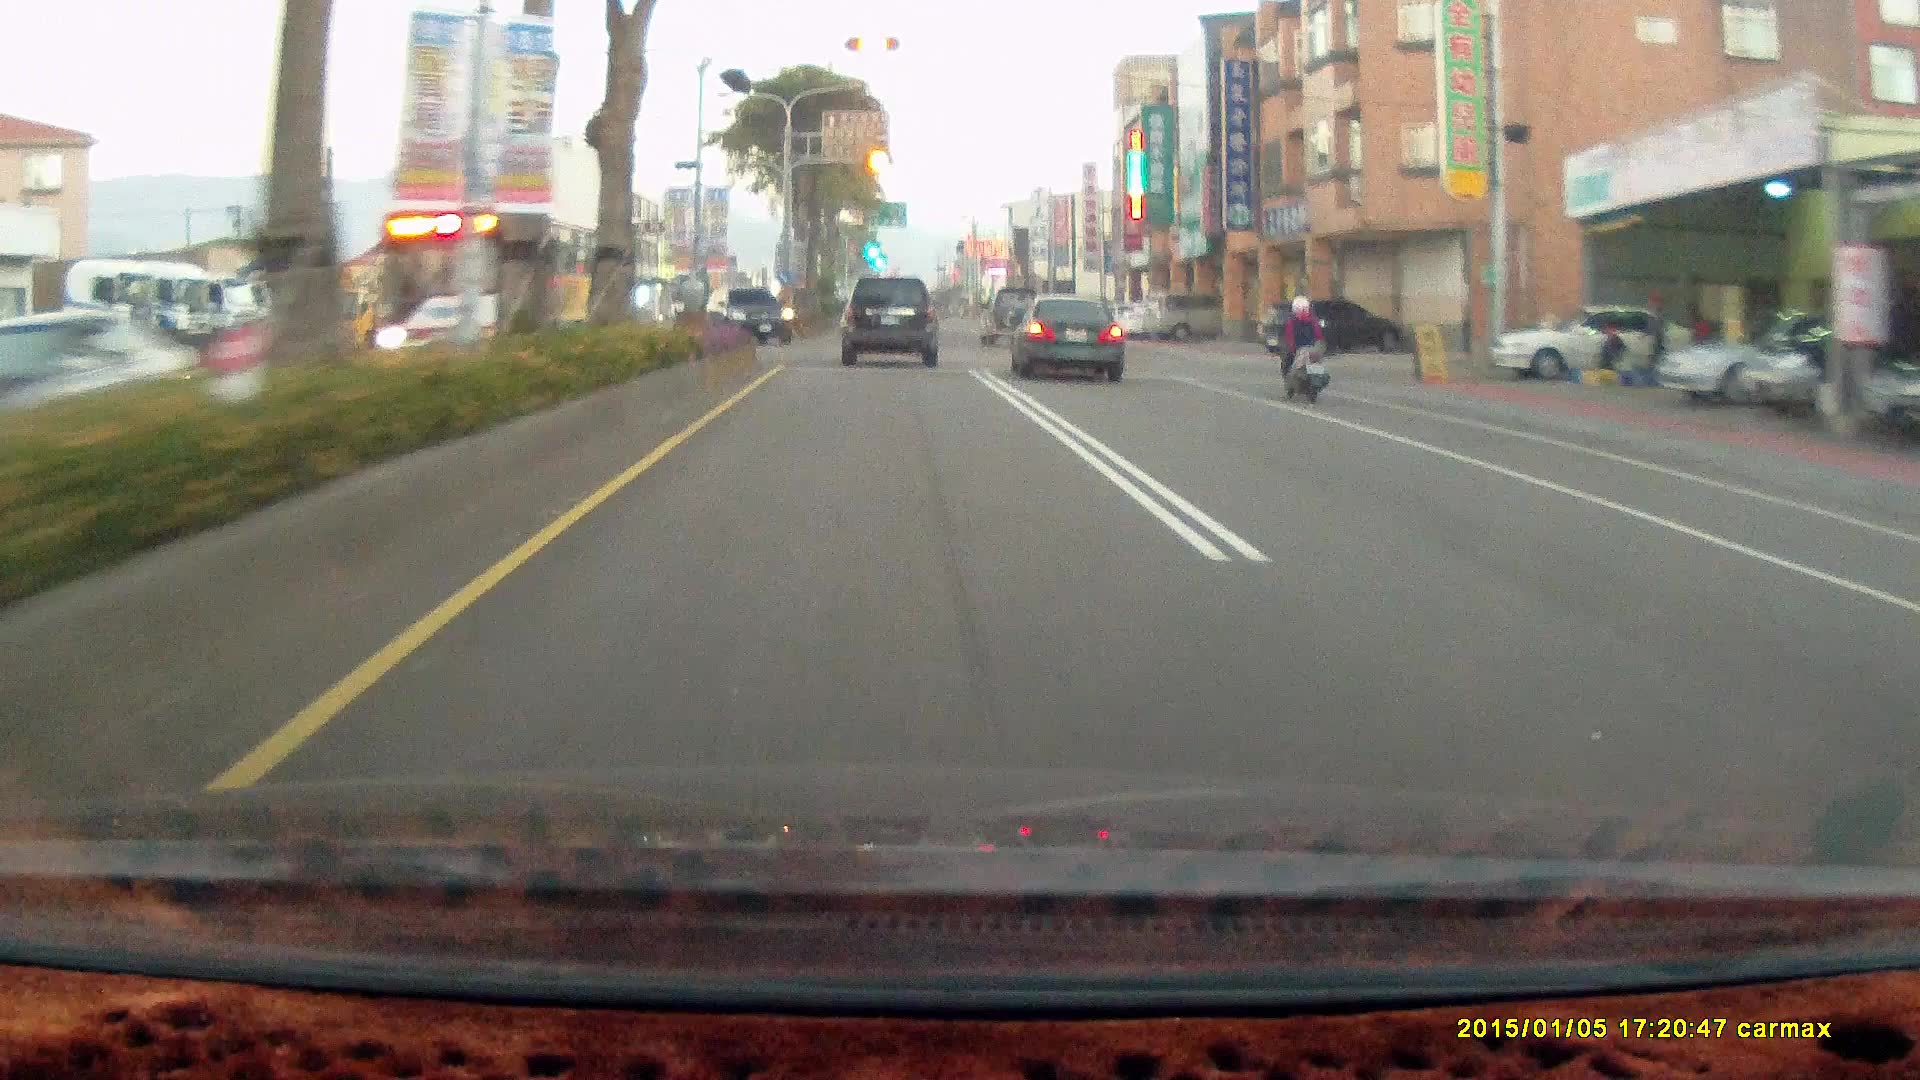pedestrian: (1646, 291, 1673, 385), (1686, 302, 1713, 376), (1598, 324, 1627, 385)
rider: (1265, 286, 1339, 413), (1271, 294, 1329, 401)
vehicle: (365, 205, 639, 367), (378, 204, 641, 366), (0, 306, 202, 451), (1718, 302, 1920, 429), (1654, 312, 1895, 411), (1, 306, 201, 419), (1737, 305, 1920, 417), (1664, 307, 1861, 406), (1488, 302, 1699, 377), (1487, 303, 1698, 379), (1013, 298, 1132, 392), (1002, 292, 1122, 380), (840, 281, 944, 373), (839, 275, 937, 367), (1259, 299, 1407, 360), (1258, 299, 1405, 359), (713, 284, 796, 345), (712, 284, 795, 343), (1147, 292, 1244, 341), (1868, 351, 1920, 440), (1144, 292, 1225, 345), (977, 285, 1042, 345)
